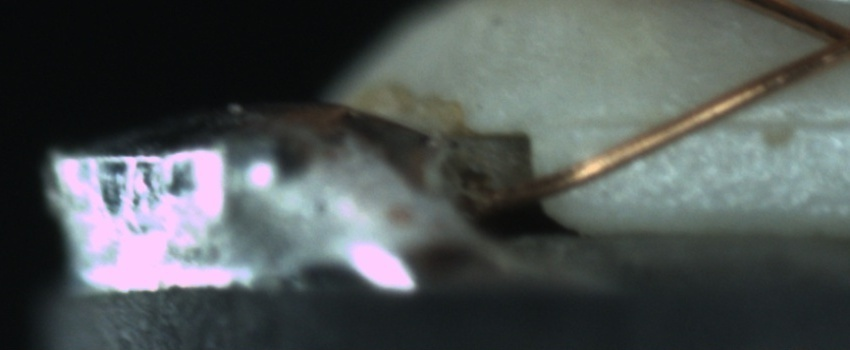CL: (799, 11, 850, 75)
DL: (568, 89, 846, 152)
